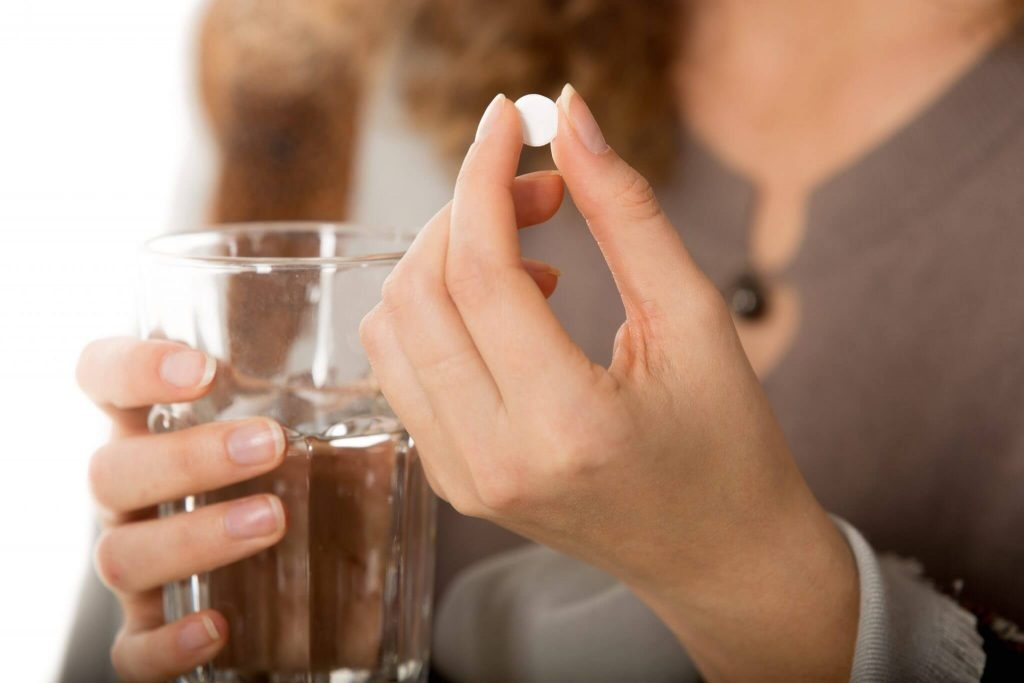pills: (507, 82, 573, 161)
